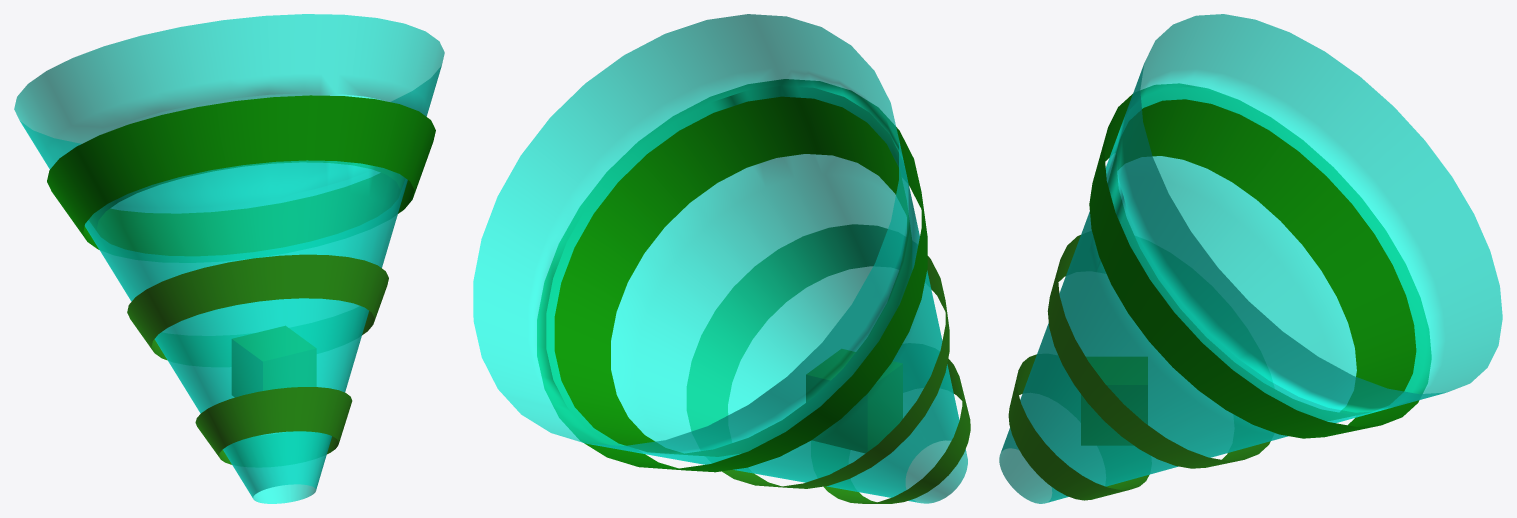
File: Blue.gltf
3 renders of one model, left to right at view 1: azimuth 30°, elevation 25°; view 2: azimuth 150°, elevation 25°; view 3: azimuth 270°, elevation 25°, orthographic. The views are drawn at different scales.
Visible parts, largest first — view 1: Cylinder.004; view 2: Cylinder.004; view 3: Cylinder.004.
Boxes of the visible parts, x1,y1,x2,y2 form: Cylinder.004: [14, 14, 444, 503]; Cylinder.004: [473, 14, 970, 503]; Cylinder.004: [999, 14, 1502, 503].
Size of the model in its own units: 2.65 by 3.07 by 2.93.
4 materials, 1 textured.
